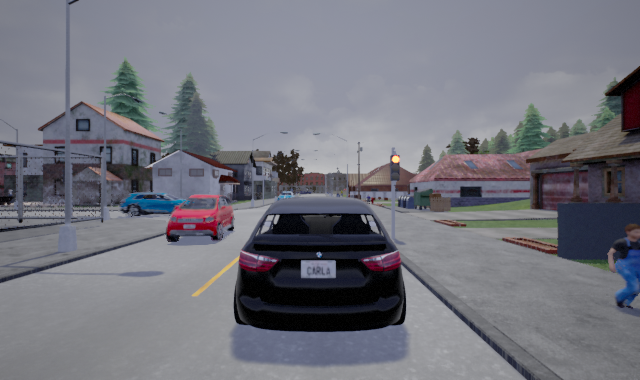pedestrian: (606, 218, 639, 318)
vehicle: (233, 195, 405, 333), (160, 194, 238, 244), (115, 191, 202, 218)
